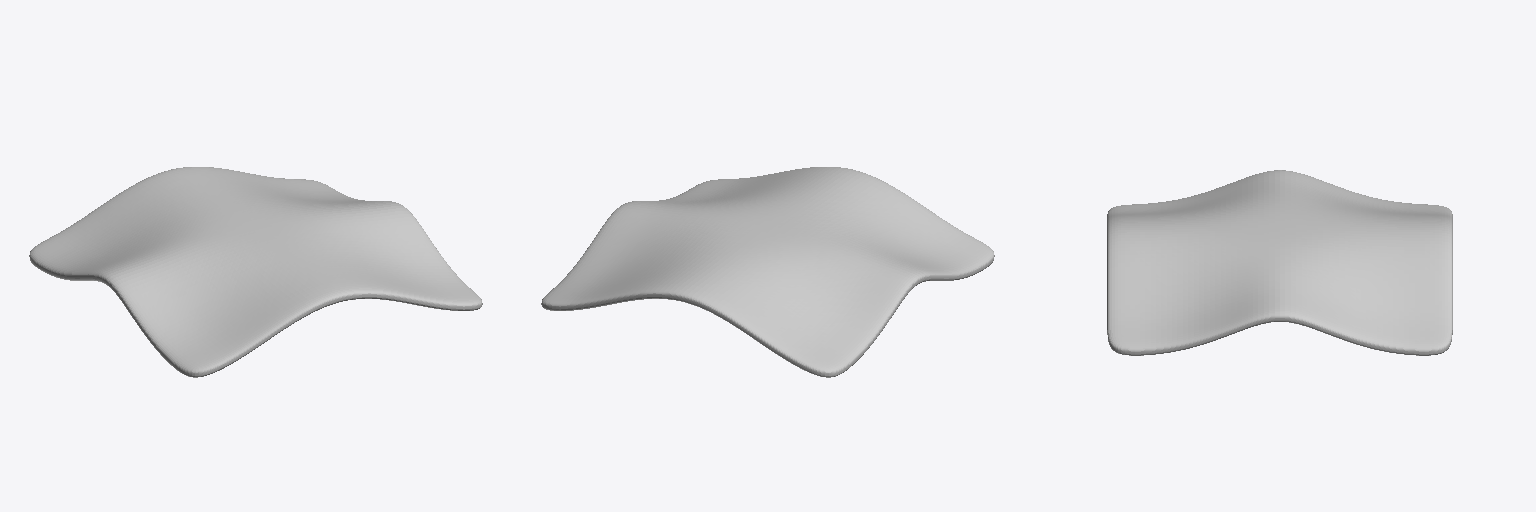
File: cheese.obj
3 renders of one model, left to right at view 1: azimuth 30°, elevation 25°; view 2: azimuth 150°, elevation 25°; view 3: azimuth 270°, elevation 25°, orthographic.
Parts seen in each view (by area): view 1: queijo; view 2: queijo; view 3: queijo.
Boxes of the visible parts, x1=… form: queijo: x1=29, y1=167, x2=482, y2=377; queijo: x1=541, y1=167, x2=994, y2=377; queijo: x1=1107, y1=170, x2=1452, y2=355.
Bounding box in the file's own units: 1.83 × 0.3323 × 1.83.